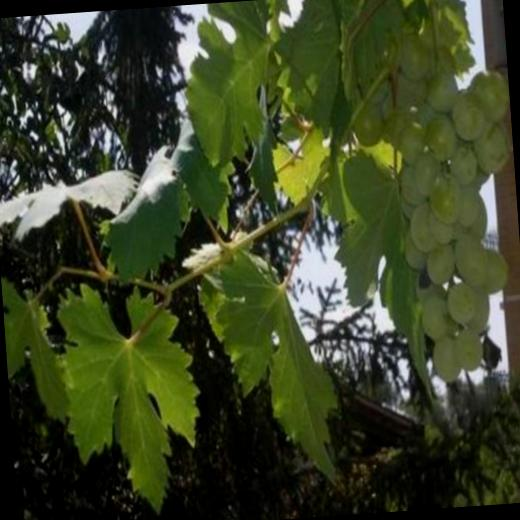Orange: (345, 28, 520, 381)
